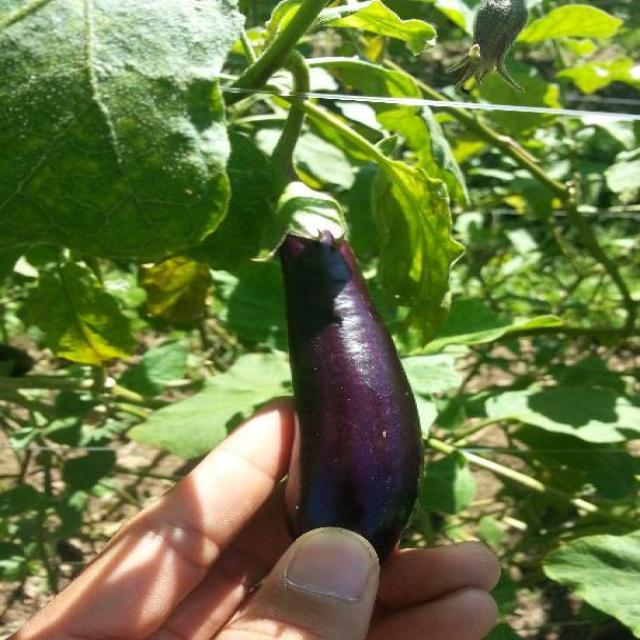eggplant: (254, 170, 431, 570)
